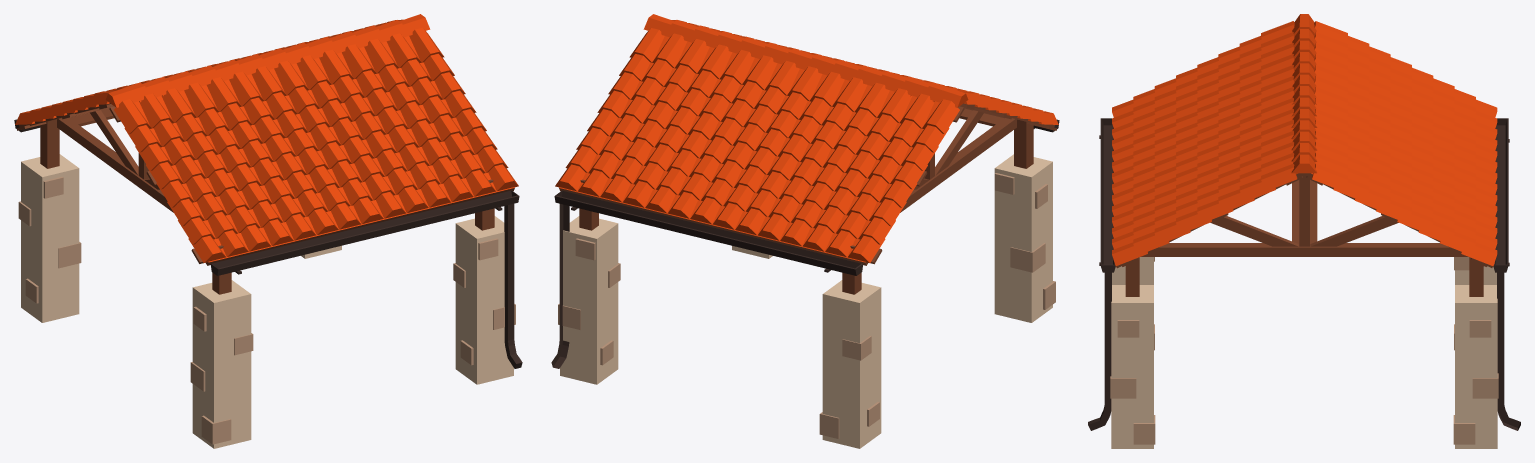
The model's file is roof_1.glb.
The picture shows the model from 3 angles, left to right: view 1: azimuth 30°, elevation 25°; view 2: azimuth 150°, elevation 25°; view 3: azimuth 270°, elevation 25°; orthographic projection.
Visible parts, largest first — view 1: roof 1_brick 3_0; view 2: roof 1_brick 3_0; view 3: roof 1_brick 3_0.
Part boxes in pixels (box(x1,y1,x2,y2)): roof 1_brick 3_0: box(14, 14, 522, 448); roof 1_brick 3_0: box(551, 14, 1059, 448); roof 1_brick 3_0: box(1088, 14, 1520, 448).
Size of the model in its own units: 5.87 by 5.11 by 6.95.
